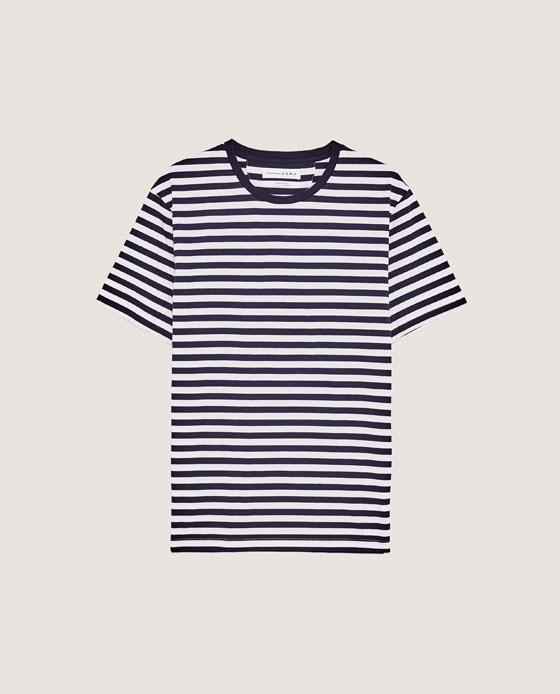teeshirt: (86, 136, 474, 600)
